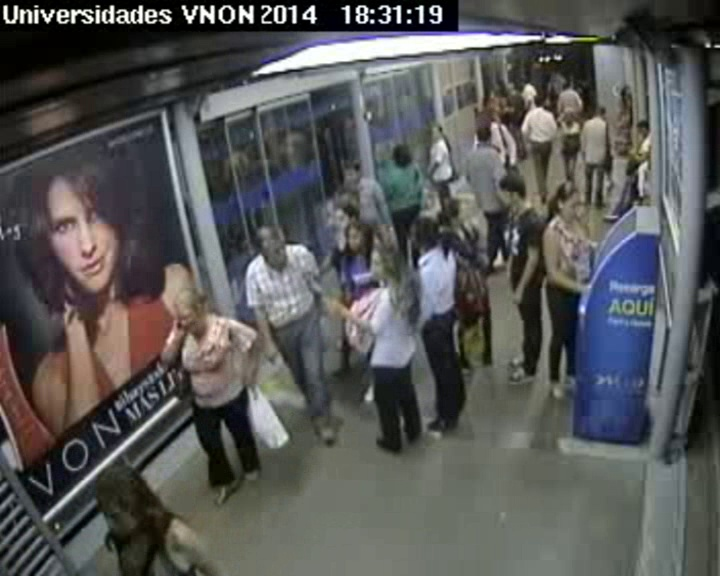person: (88, 465, 164, 547), (168, 289, 217, 337), (251, 223, 296, 271), (406, 216, 446, 255), (368, 245, 406, 284), (497, 173, 530, 210), (555, 181, 586, 220), (345, 225, 372, 253), (341, 159, 365, 187), (439, 184, 461, 209), (337, 207, 358, 229), (391, 144, 412, 165), (475, 126, 491, 144), (635, 118, 651, 134), (483, 108, 499, 124), (430, 123, 446, 139), (563, 108, 577, 122), (593, 104, 607, 118), (619, 87, 631, 102), (533, 96, 546, 109), (507, 78, 519, 91), (518, 76, 530, 87), (493, 80, 504, 92), (563, 82, 573, 91), (551, 65, 557, 72)
